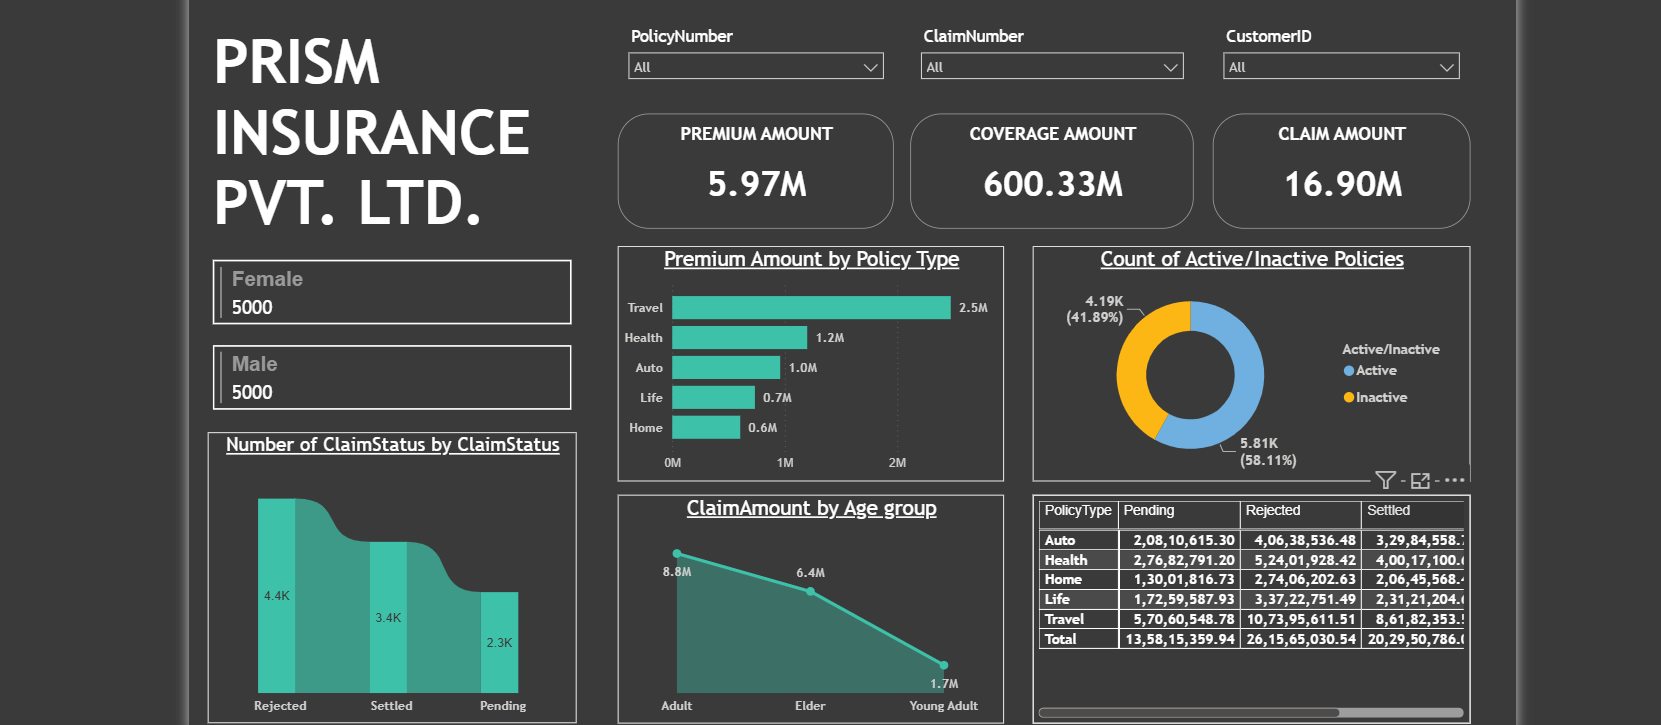

The page's visual inventory and layout, read from the dashboard file:
{"tool":"powerbi","page":{"name":"Page 1","canvas":[1280,720],"ordinal":0},"visuals":[{"type":"slicer","fields":{"Values":["InsuranceData.PolicyNumber"]},"box":[413.8,33.8,266.6,78.4],"z":0},{"type":"slicer","fields":{"Values":["InsuranceData.ClaimNumber"]},"box":[696.1,33.8,273.9,78.4],"z":1000},{"type":"slicer","fields":{"Values":["InsuranceData.CustomerID"]},"box":[988.1,33.8,248.5,78.4],"z":2000},{"type":"textbox","box":[18.1,33.8,369.2,225.6],"z":3000},{"type":"cardVisual","title":"PREMIUM AMOUNT","fields":{"Data":["Sum(InsuranceData.PremiumAmount)"]},"box":[413.8,123.1,266.6,111],"z":4000},{"type":"cardVisual","title":"COVERAGE AMOUNT","fields":{"Data":["Sum(InsuranceData.CoverageAmount)"]},"box":[696.1,123.1,273.9,111],"z":5000},{"type":"cardVisual","title":"CLAIM AMOUNT","fields":{"Data":["Sum(InsuranceData.ClaimAmount)"]},"box":[988.1,123.1,248.5,111],"z":6000},{"type":"multiRowCard","fields":{"Values":["InsuranceData.Gender","CountNonNull(InsuranceData.Gender)"]},"box":[18.1,259.4,355.9,179.8],"z":7000},{"type":"ribbonChart","title":"Number of  ClaimStatus by ClaimStatus","fields":{"Category":["InsuranceData.ClaimStatus"],"Y":["CountNonNull(InsuranceData.ClaimStatus)"]},"box":[18.1,430.7,355.9,281.1],"z":8000},{"type":"barChart","title":" Premium Amount by Policy Type","fields":{"Category":["InsuranceData.PolicyType"],"Y":["Sum(InsuranceData.PremiumAmount)"]},"box":[413.8,250.9,372.8,226.8],"z":9000},{"type":"lineChart","title":" ClaimAmount by Age group","fields":{"Category":["InsuranceData.Age group"],"Y":["Sum(InsuranceData.ClaimAmount)"]},"box":[413.8,491,372.8,220.8],"z":10000},{"type":"donutChart","title":"Count of Active/Inactive Policies","fields":{"Category":["InsuranceData.Active/Inactive"],"Y":["CountNonNull(InsuranceData.Active/Inactive)"]},"box":[814.3,250.9,422.3,226.8],"z":10001},{"type":"pivotTable","fields":{"Values":["Sum(InsuranceData.CoverageAmount)"],"Columns":["InsuranceData.ClaimStatus"],"Rows":["InsuranceData.PolicyType"]},"box":[814,491,422,221],"z":10002}]}

Visuals, with their boxes in screenshot pixels (x1, y1, x2, y2):
slicer - InsuranceData.PolicyNumber: pyautogui.locateOnScreen(304, 38, 569, 116)
slicer - InsuranceData.ClaimNumber: pyautogui.locateOnScreen(585, 38, 857, 116)
slicer - InsuranceData.CustomerID: pyautogui.locateOnScreen(875, 38, 1123, 116)
textbox: pyautogui.locateOnScreen(0, 38, 277, 263)
"PREMIUM AMOUNT" cardVisual: pyautogui.locateOnScreen(304, 127, 569, 237)
"COVERAGE AMOUNT" cardVisual: pyautogui.locateOnScreen(585, 127, 857, 237)
"CLAIM AMOUNT" cardVisual: pyautogui.locateOnScreen(875, 127, 1123, 237)
multiRowCard - InsuranceData.Gender x CountNonNull(InsuranceData.Gender): pyautogui.locateOnScreen(0, 263, 264, 441)
"Number of  ClaimStatus by ClaimStatus" ribbonChart: pyautogui.locateOnScreen(0, 433, 264, 713)
" Premium Amount by Policy Type" barChart: pyautogui.locateOnScreen(304, 254, 675, 480)
" ClaimAmount by Age group" lineChart: pyautogui.locateOnScreen(304, 493, 675, 713)
"Count of Active/Inactive Policies" donutChart: pyautogui.locateOnScreen(702, 254, 1123, 480)
pivotTable - Sum(InsuranceData.CoverageAmount) x InsuranceData.ClaimStatus: pyautogui.locateOnScreen(702, 493, 1122, 713)
